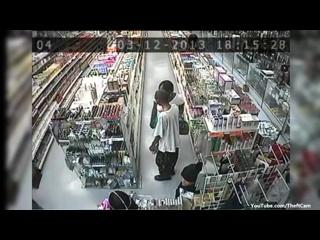Normal: (149, 90, 180, 181)
